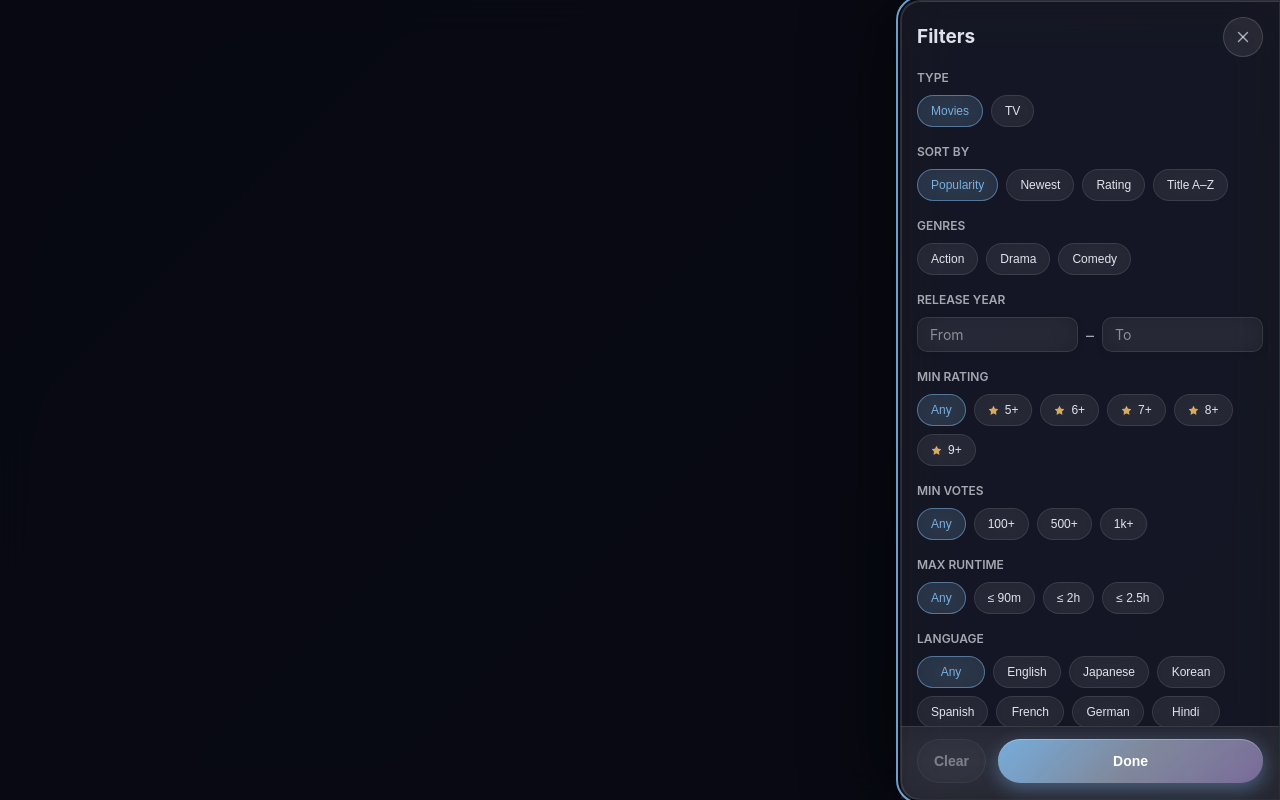
Test: FilterSlideover › Clear is disabled with no active filters and resets the draft once dirty
Check: the button "Clear" is disabled, box [917,739,986,783]
Click the button "Action" at (948, 259), box [917,243,978,275]
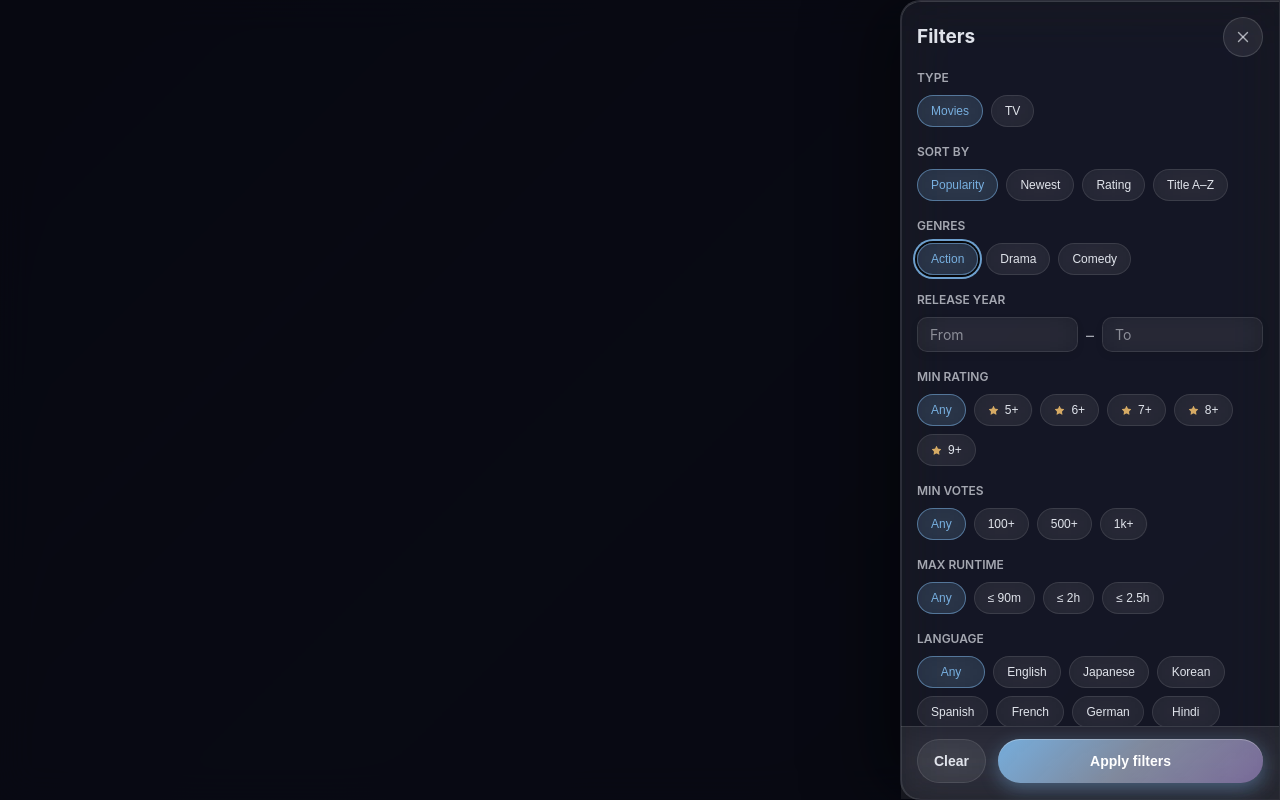
Check: the button "Clear" is enabled
Click the button "Clear" at (952, 761), box [917,739,986,783]
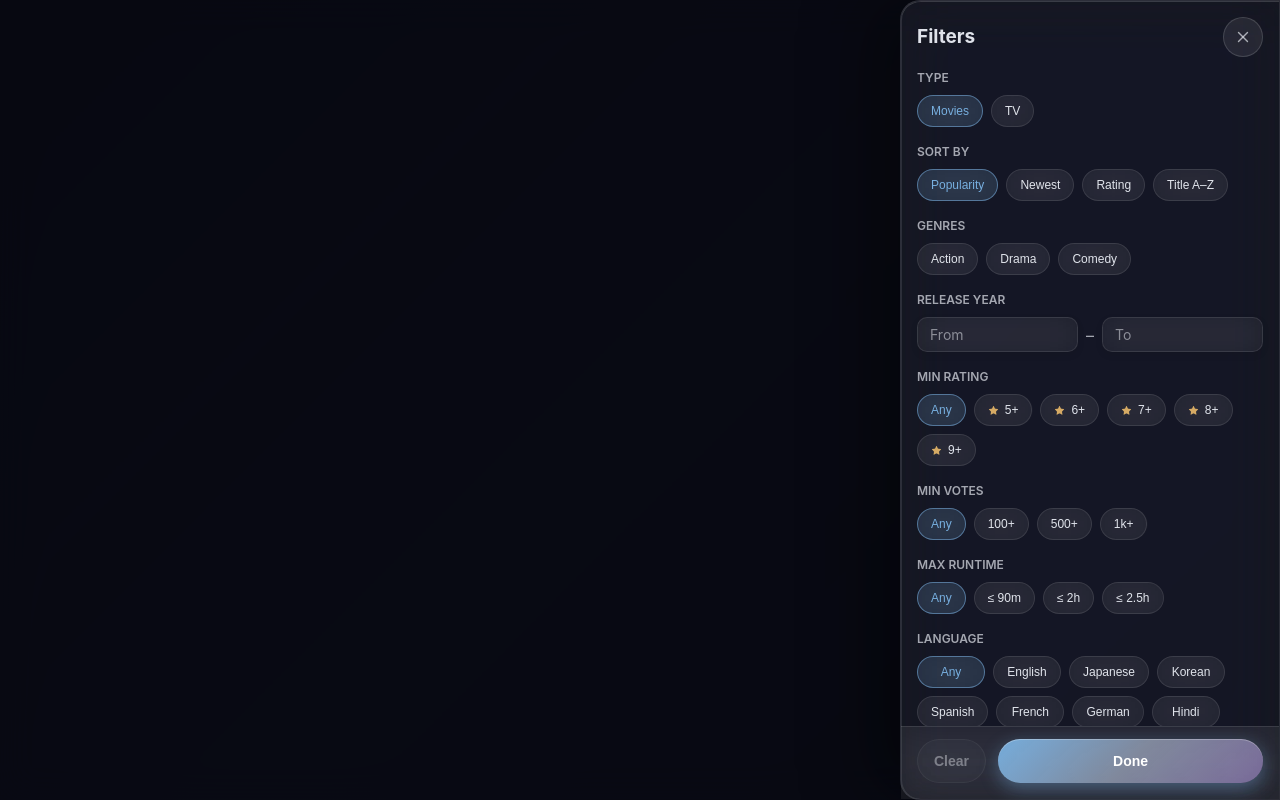
Check: the button "Clear" is disabled, box [917,739,986,783]
